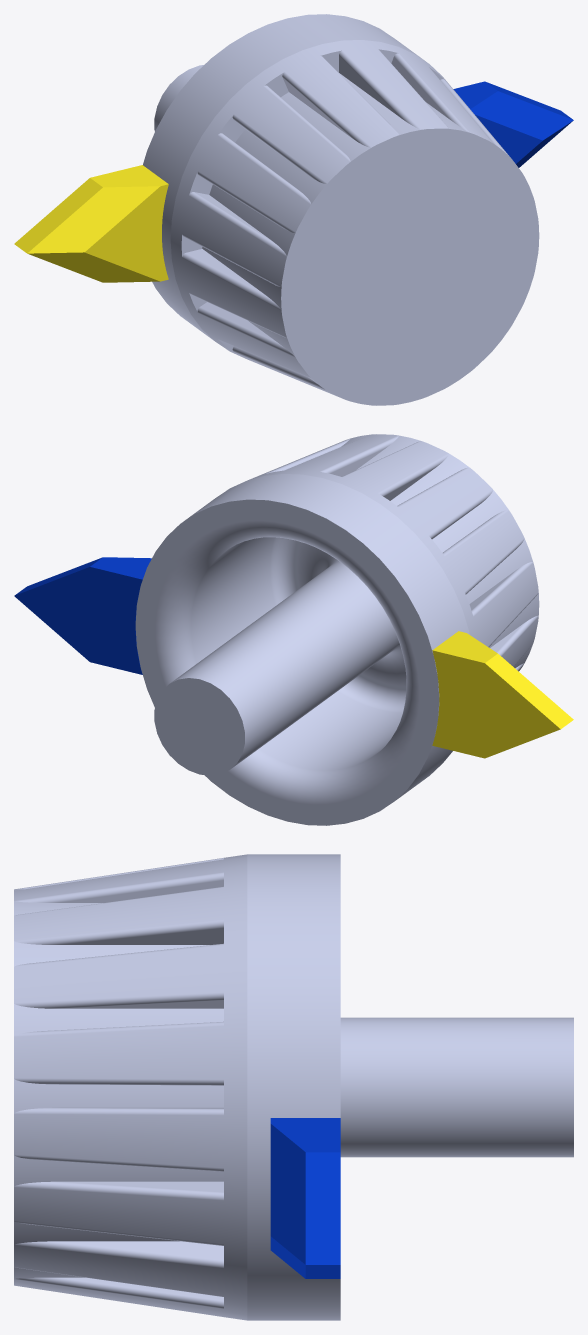
File: Clock_Hand_z.fbx
The picture shows the model from 3 angles, top to bottom: view 1: azimuth 30°, elevation 25°; view 2: azimuth 150°, elevation 25°; view 3: azimuth 270°, elevation 25°; orthographic projection. The views are drawn at different scales.
Parts seen in each view (by area): view 1: color-2, yellow medium gloss plastic, color; view 2: color-2, yellow medium gloss plastic, color; view 3: color-2, color.
Boxes of the visible parts, x1,y1,x2,y2 form: color-2: [143, 14, 539, 405]; yellow medium gloss plastic: [14, 165, 168, 282]; color: [453, 81, 573, 167]; color-2: [135, 434, 539, 825]; yellow medium gloss plastic: [432, 631, 573, 758]; color: [14, 557, 151, 674]; color-2: [14, 854, 573, 1320]; color: [270, 1118, 340, 1278].
Size of the model in its own units: 3.6 by 2 by 2.4.
